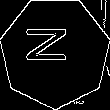N_E: (31, 32, 79, 72)
